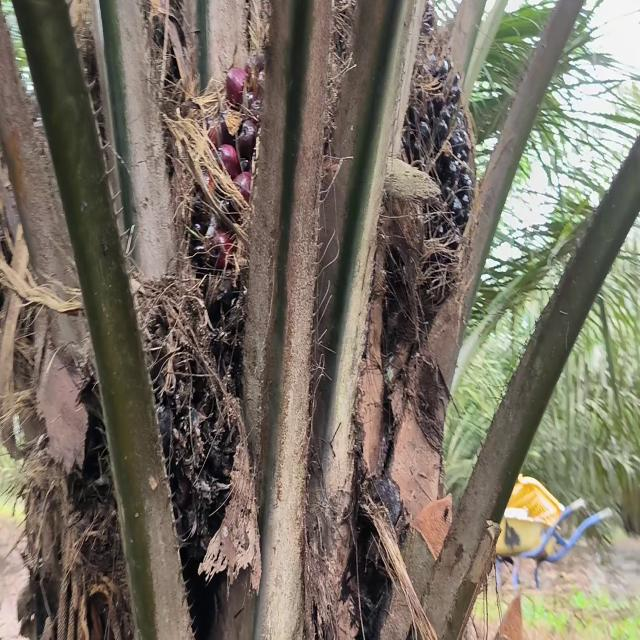palm-oil: (175, 61, 339, 394), (384, 42, 482, 339)
